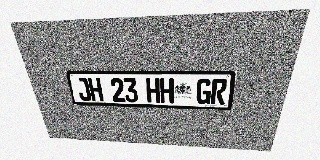2: (110, 78, 125, 102)
3: (123, 78, 138, 102)
G: (196, 78, 212, 104)
H: (87, 78, 104, 101), (146, 78, 160, 103), (160, 78, 174, 103)
J: (75, 78, 92, 101)
R: (210, 79, 228, 105)
